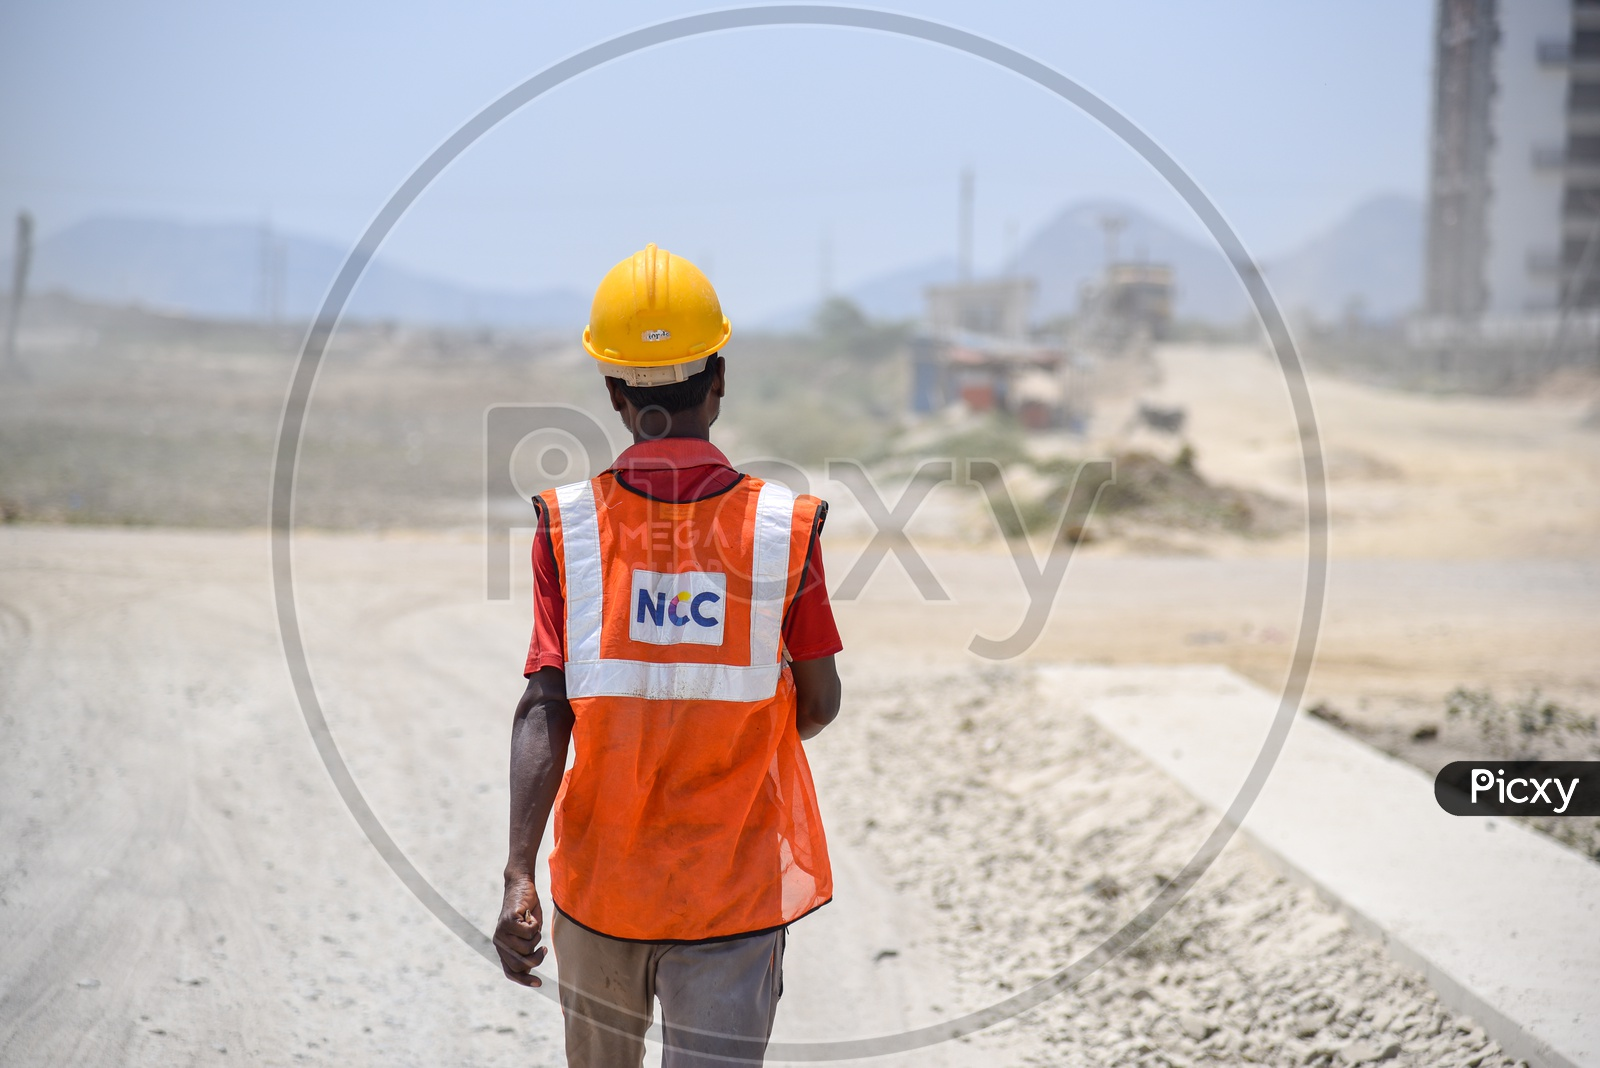Person_wearing_helmet: (573, 238, 747, 383)
